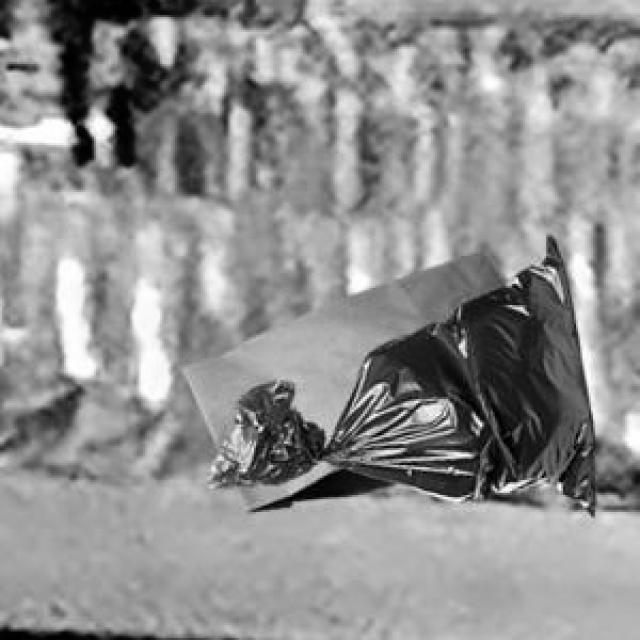miscellaneous trash: (207, 230, 590, 512)
paper: (179, 248, 504, 508)
